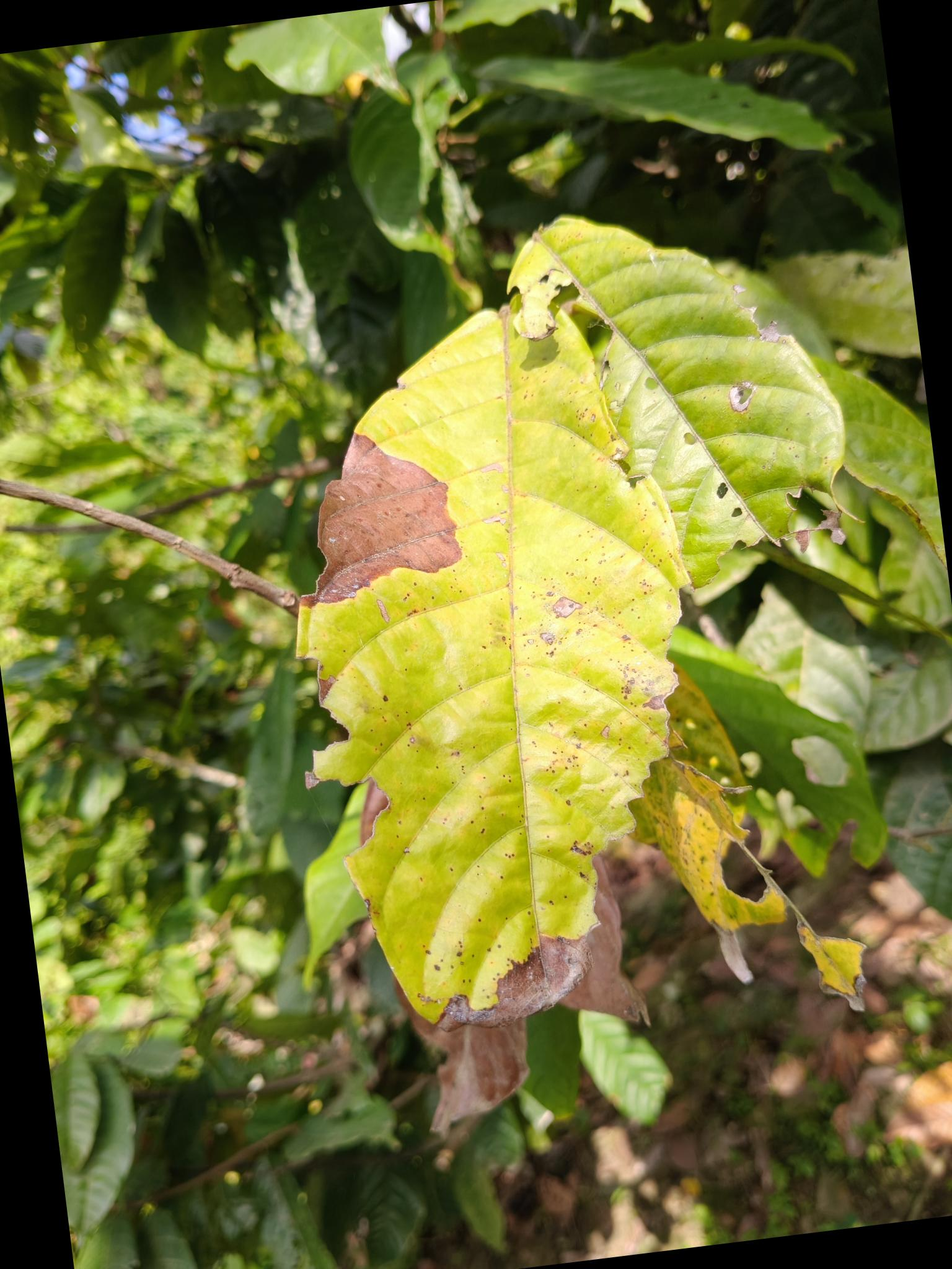Fosforo: (317, 303, 675, 1026)
